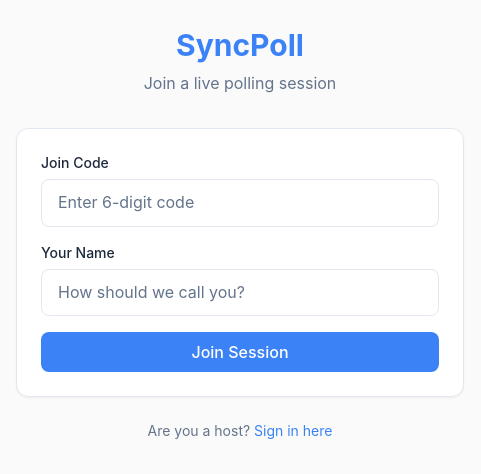
Test case: JoinPage › refuses to submit without a join code
Click the button "Join Session": (240, 352) [41,332,439,372]
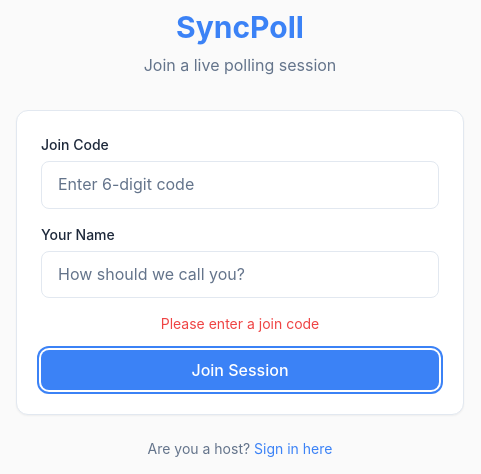
Now the text "Please enter a join code" is shown, box [161,315,319,332]
